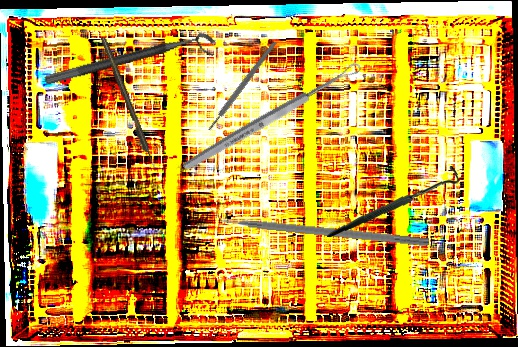Chopper: (208, 203, 431, 247)
Fixation Ring: (43, 29, 220, 100)
Hook Surgical: (327, 159, 460, 244), (99, 36, 158, 171)
Scalpel Handle: (206, 40, 278, 132)
Surgical Spoon: (179, 60, 364, 174)
